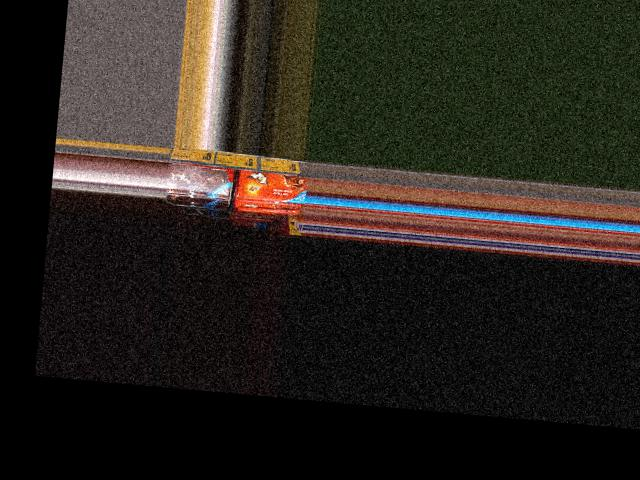chocolate: (164, 155, 228, 199)
